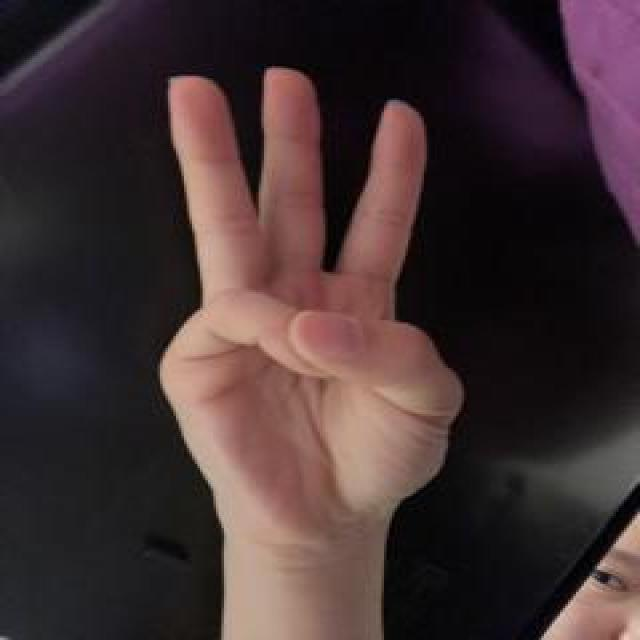W: (152, 64, 469, 554)
